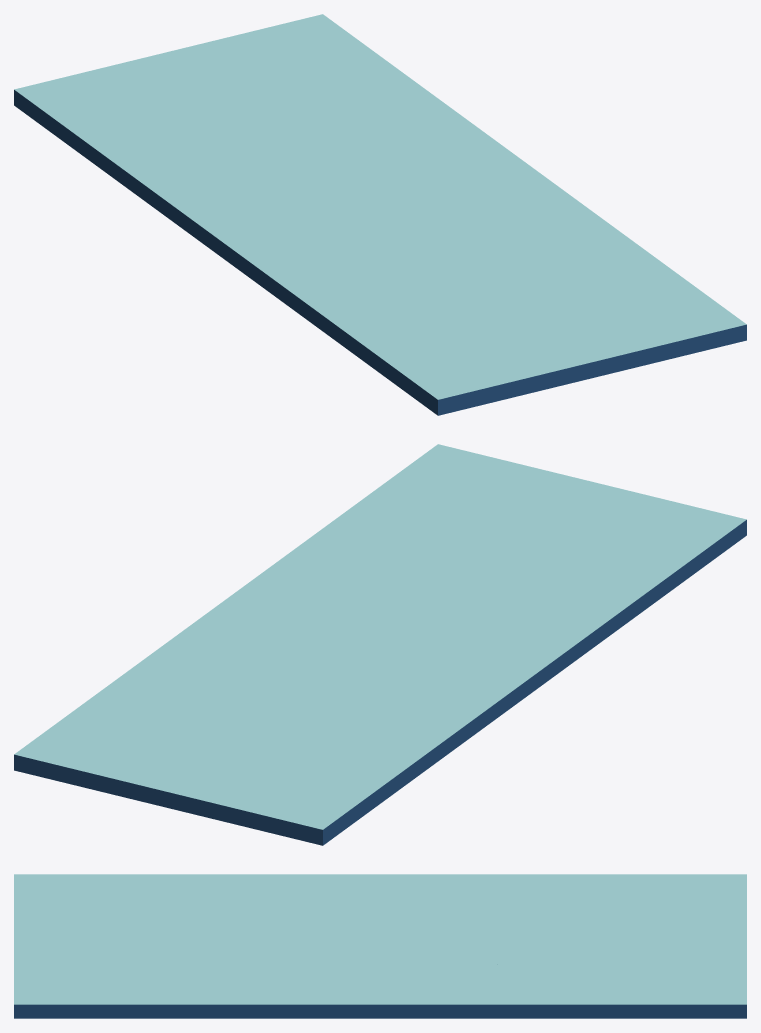
File: Road_Curve_016_Glass.fbx
3 views of the same model, one above another, from view 1: azimuth 30°, elevation 25°; view 2: azimuth 150°, elevation 25°; view 3: azimuth 270°, elevation 25° (orthographic). The views are drawn at different scales.
Parts seen in each view (by area): view 1: Glass_05, Glass_07, Glass_17, Glass_13, Glass_19, Glass_01, Glass_02, Glass_00, Glass_21, Glass_11, Glass_08, Glass_03 (+10 smaller); view 2: Glass_05, Glass_17, Glass_13, Glass_19, Glass_00, Glass_01, Glass_07, Glass_02, Glass_21, Glass_11, Glass_03, Glass_10 (+10 smaller); view 3: Glass_05, Glass_00, Glass_01, Glass_17, Glass_13, Glass_02, Glass_07, Glass_03, Glass_19, Glass_21, Glass_11, Glass_10 (+10 smaller).
Part boxes in pixels (box(x1,y1,x2,y2)): Glass_05: box(411, 237, 715, 321); Glass_07: box(464, 321, 718, 401); Glass_17: box(182, 114, 379, 206); Glass_13: box(202, 207, 410, 290); Glass_19: box(14, 86, 192, 167); Glass_01: box(308, 92, 535, 170); Glass_02: box(336, 137, 558, 206); Glass_00: box(267, 14, 442, 101); Glass_21: box(174, 168, 379, 242); Glass_11: box(267, 255, 445, 315); Glass_08: box(371, 338, 493, 415); Glass_03: box(381, 187, 612, 237); Glass_05: box(353, 466, 560, 601); Glass_17: box(260, 637, 399, 751); Glass_13: box(381, 602, 576, 707); Glass_19: box(283, 729, 407, 845); Glass_00: box(14, 667, 180, 783); Glass_01: box(134, 598, 259, 720); Glass_07: box(466, 451, 690, 540); Glass_02: box(227, 582, 379, 687); Glass_21: box(380, 637, 510, 728); Glass_11: box(464, 561, 610, 659); Glass_03: box(250, 542, 380, 636); Glass_10: box(561, 541, 680, 634); Glass_05: box(67, 915, 282, 1018); Glass_00: box(539, 966, 746, 1018); Glass_01: box(377, 955, 614, 1018); Glass_17: box(381, 894, 625, 955); Glass_13: box(282, 874, 421, 939); Glass_02: box(339, 939, 521, 1018); Glass_07: box(14, 898, 112, 992); Glass_03: box(246, 940, 379, 1018); Glass_19: box(536, 874, 746, 920); Glass_21: box(380, 874, 534, 939); Glass_11: box(168, 874, 307, 928); Glass_10: box(113, 874, 248, 915).
Bounding box in the file's own units: 985 × 48.58 × 2342.
